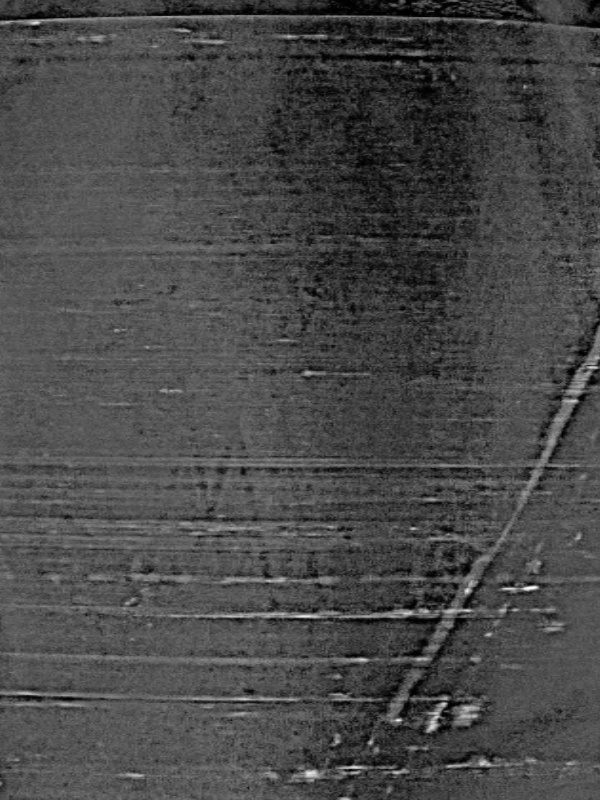splice_vulcanized: (306, 315, 600, 798)
